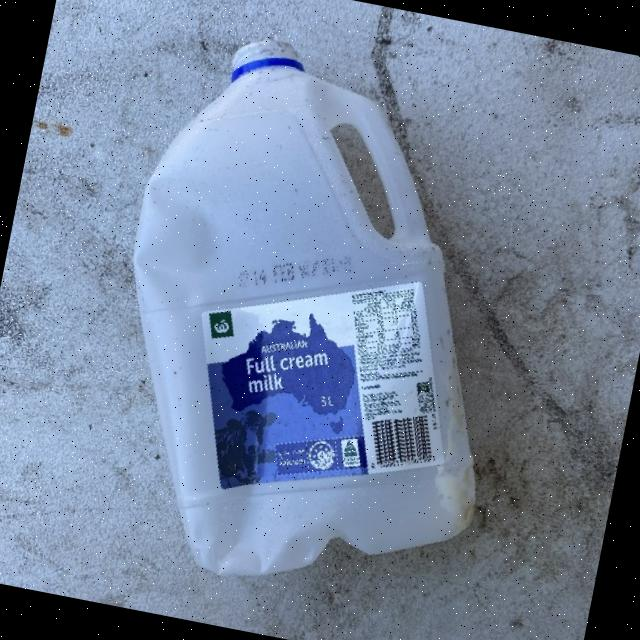plastic: (73, 18, 556, 620)
